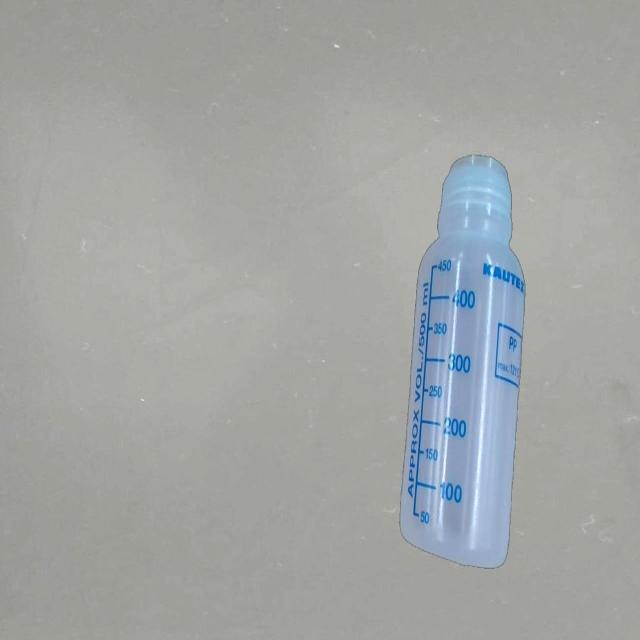bottle: (397, 150, 527, 572)
